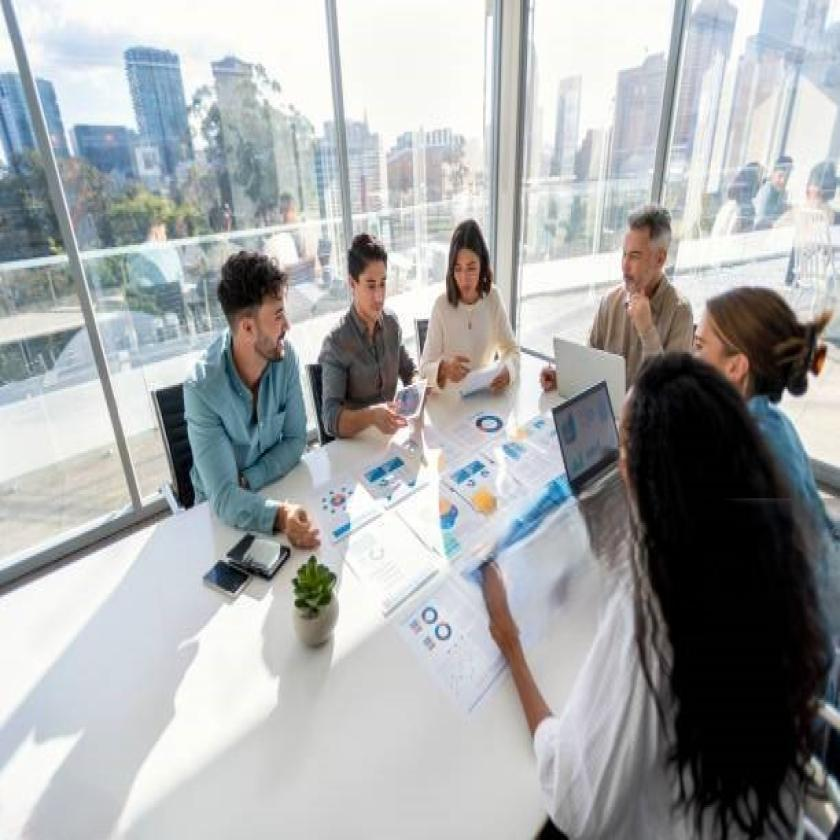Sin_casco: (202, 231, 288, 366), (342, 222, 394, 331), (608, 196, 672, 283), (448, 216, 489, 297)
